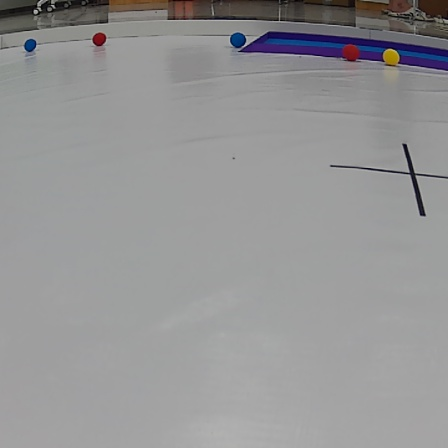blue: (23, 37, 38, 51), (232, 33, 244, 48)
blue_aim: (252, 27, 448, 84)
red: (342, 44, 361, 63), (91, 32, 110, 43)
yellow: (383, 49, 403, 66)
